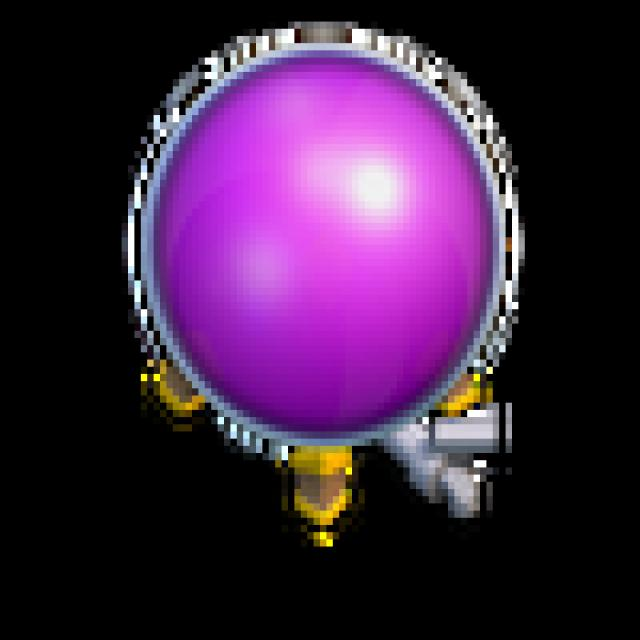elixir_storage: (108, 18, 523, 560)
